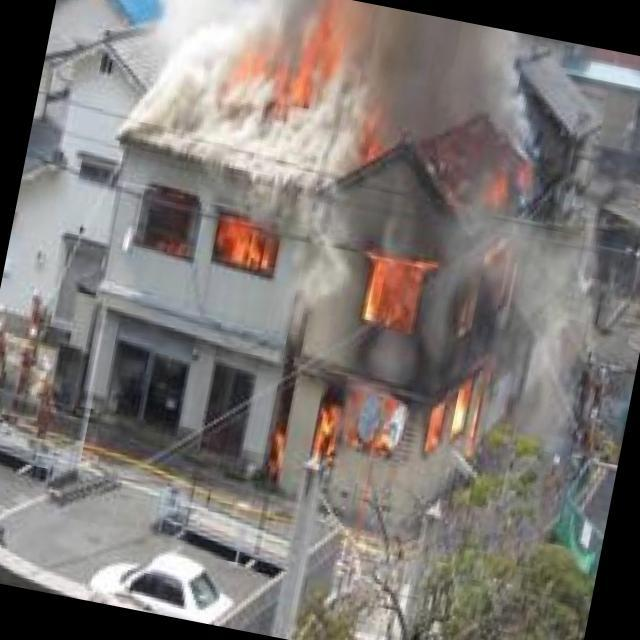Fire: (304, 109, 554, 503), (219, 1, 368, 122), (121, 195, 284, 283)
